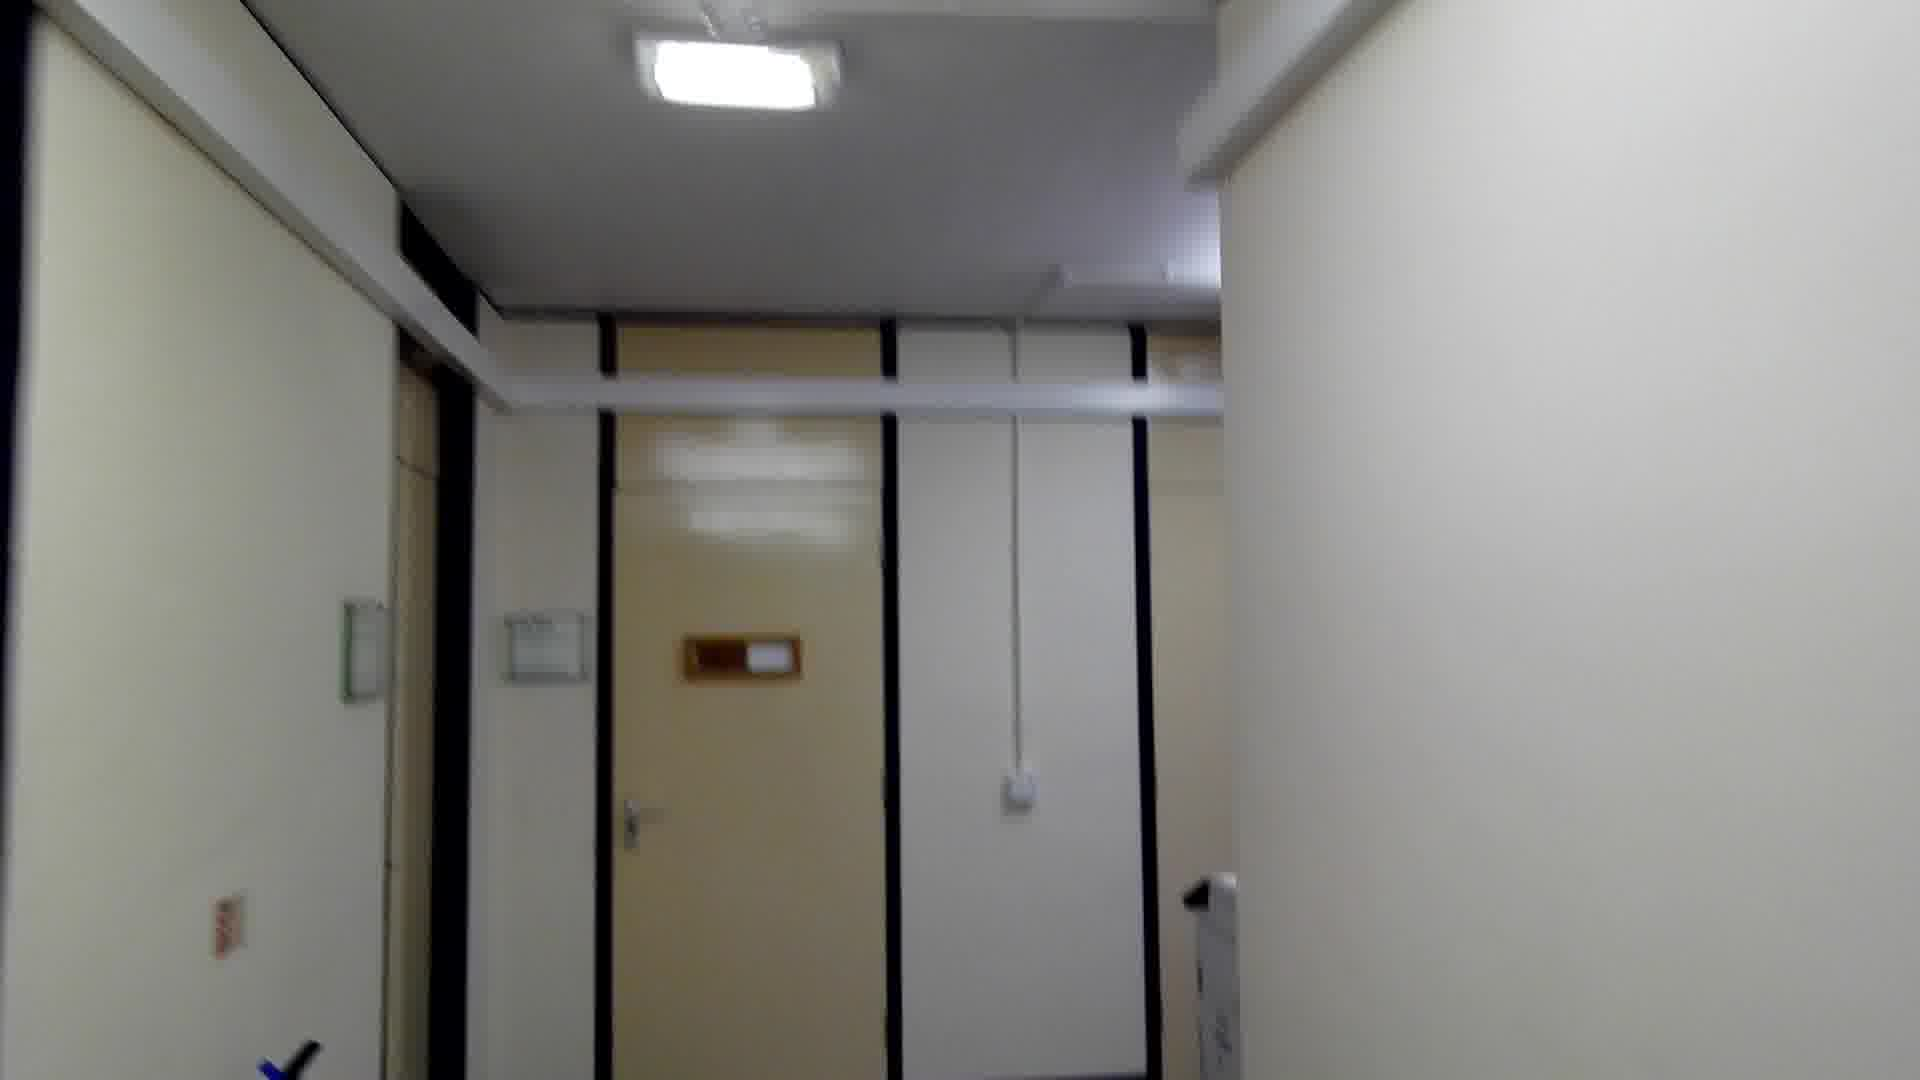Door: (584, 294, 915, 1080)
